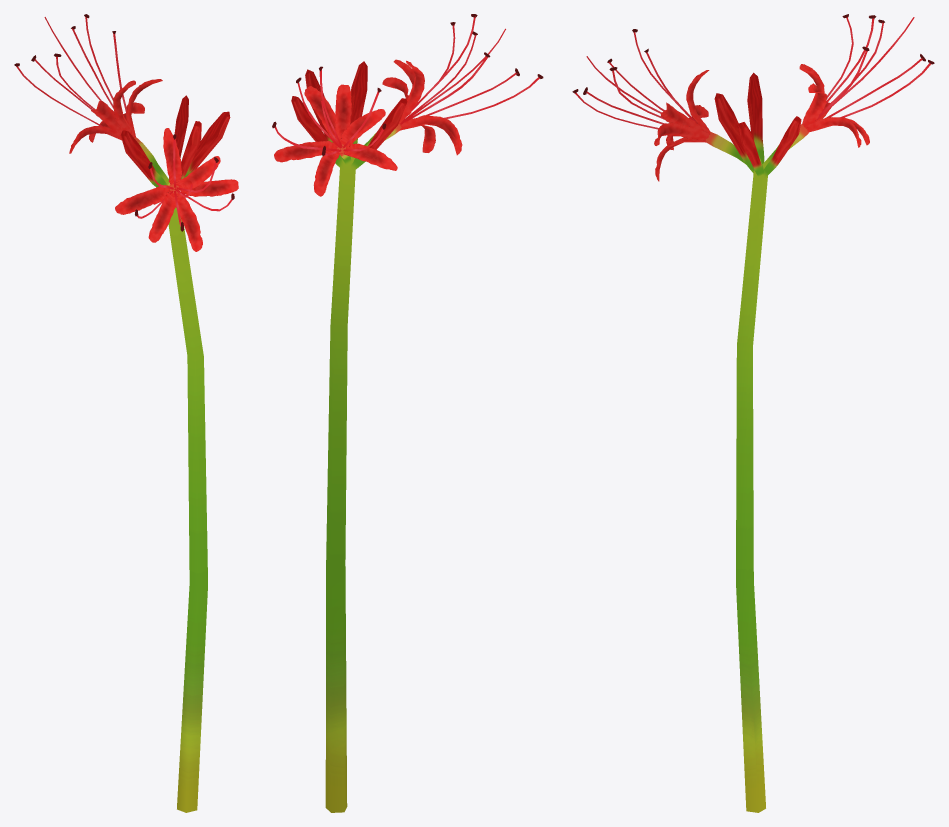
File: m_lycoris02.fbx
The picture shows the model from 3 angles, left to right: view 1: azimuth 30°, elevation 25°; view 2: azimuth 150°, elevation 25°; view 3: azimuth 270°, elevation 25°; orthographic projection. The views are drawn at different scales.
Visible parts, largest first — view 1: mesh_lycoris02_LOD0; view 2: mesh_lycoris02_LOD0; view 3: mesh_lycoris02_LOD0.
Part boxes in pixels (x1=…): mesh_lycoris02_LOD0: x1=14, y1=14, x2=238, y2=812; mesh_lycoris02_LOD0: x1=272, y1=14, x2=543, y2=812; mesh_lycoris02_LOD0: x1=572, y1=14, x2=934, y2=812.
Size of what is drawn, in the model's own units: 0.0837 by 0.3797 by 0.1616.
